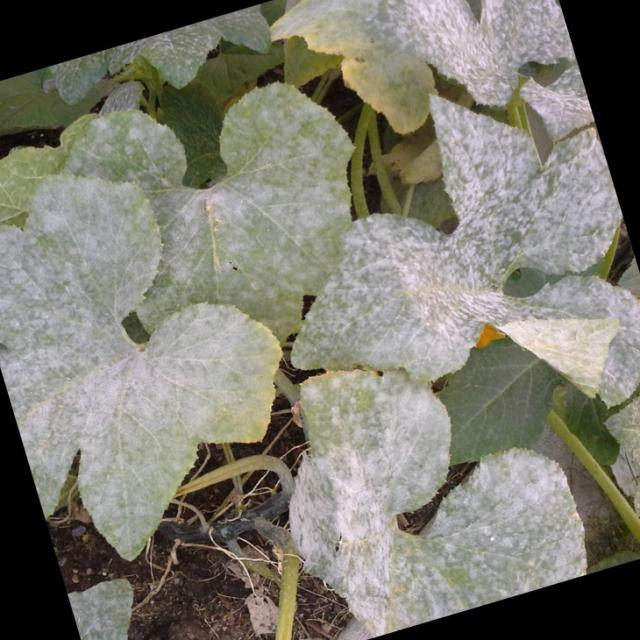Powdery Mildew: (2, 1, 637, 636)
